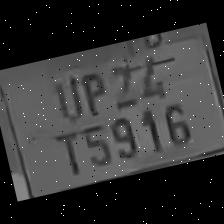1: (132, 102, 166, 158)
4: (128, 50, 174, 104)
5: (74, 118, 114, 172)
6: (156, 96, 196, 152)
9: (103, 110, 140, 164)
P: (73, 65, 113, 119)
T: (48, 124, 86, 180)
U: (46, 71, 86, 124)
